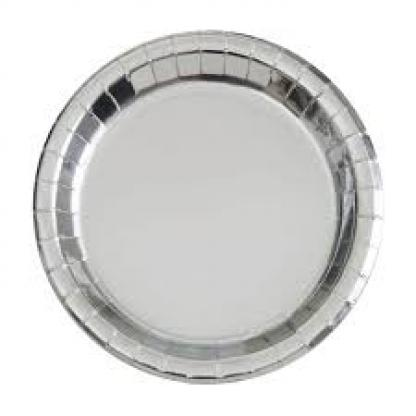METAL: (29, 30, 381, 382)
